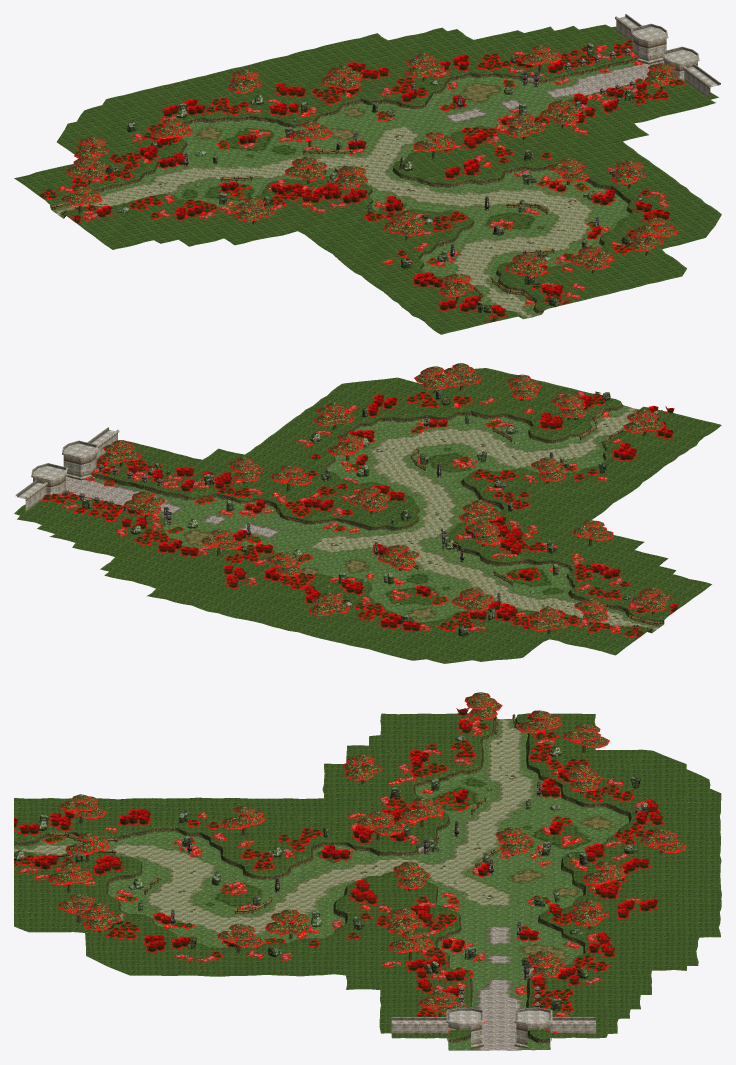
File: TrattPlainsRoad1.obj
3 views of the same model, one above another, from view 1: azimuth 30°, elevation 25°; view 2: azimuth 150°, elevation 25°; view 3: azimuth 270°, elevation 25° (orthographic). The views are drawn at different scales.
Parts seen in each view (by area): view 1: Object.005; view 2: Object.005; view 3: Object.005.
Part boxes in pixels (x1,y1,x2,y2): Object.005: [14, 14, 721, 334]; Object.005: [14, 363, 721, 663]; Object.005: [14, 692, 721, 1050].
Bounding box in the file's own units: 138 × 7.12 × 125.
18 materials, 18 textured.
